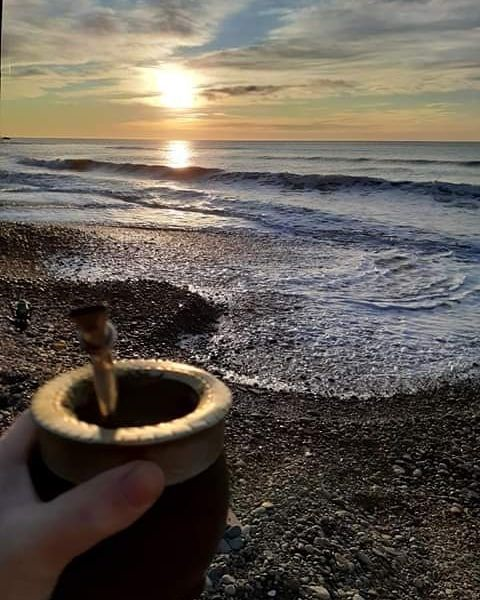madera: (34, 344, 232, 598)
mate: (36, 346, 234, 600)
